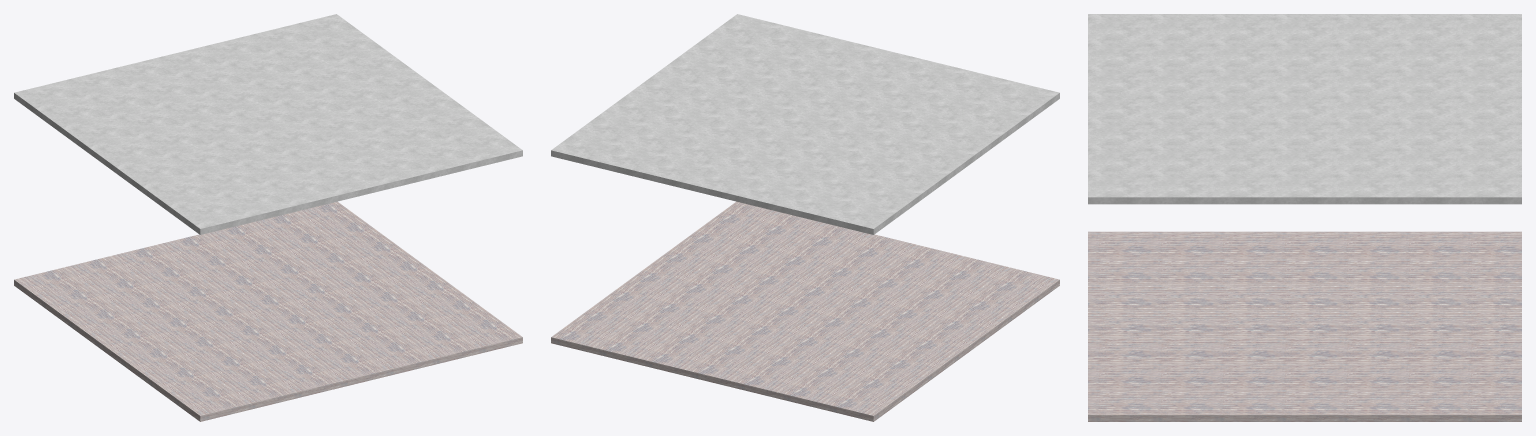
Rendered from OLD_2x2EmptySpace.obj.
3 views of the same model, side by side, from view 1: azimuth 30°, elevation 25°; view 2: azimuth 150°, elevation 25°; view 3: azimuth 270°, elevation 25° (orthographic). The views are drawn at different scales.
Parts seen in each view (by area): view 1: Ceiling1, Floor1; view 2: Ceiling1, Floor1; view 3: Ceiling1, Floor1.
Part boxes in pixels (left/top/right/bottom): Ceiling1: left=14, top=14, right=522, bottom=234; Floor1: left=14, top=201, right=522, bottom=421; Ceiling1: left=551, top=14, right=1059, bottom=234; Floor1: left=551, top=201, right=1059, bottom=421; Ceiling1: left=1088, top=14, right=1521, bottom=204; Floor1: left=1088, top=231, right=1521, bottom=421.
Size of the model in its own units: 56 by 32 by 56.
